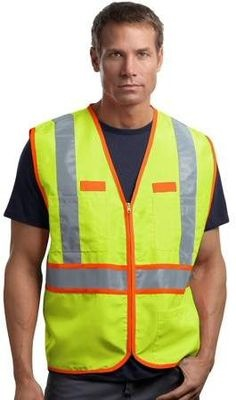person with partial safety: (16, 3, 221, 397)
safety vest: (34, 108, 203, 369)
